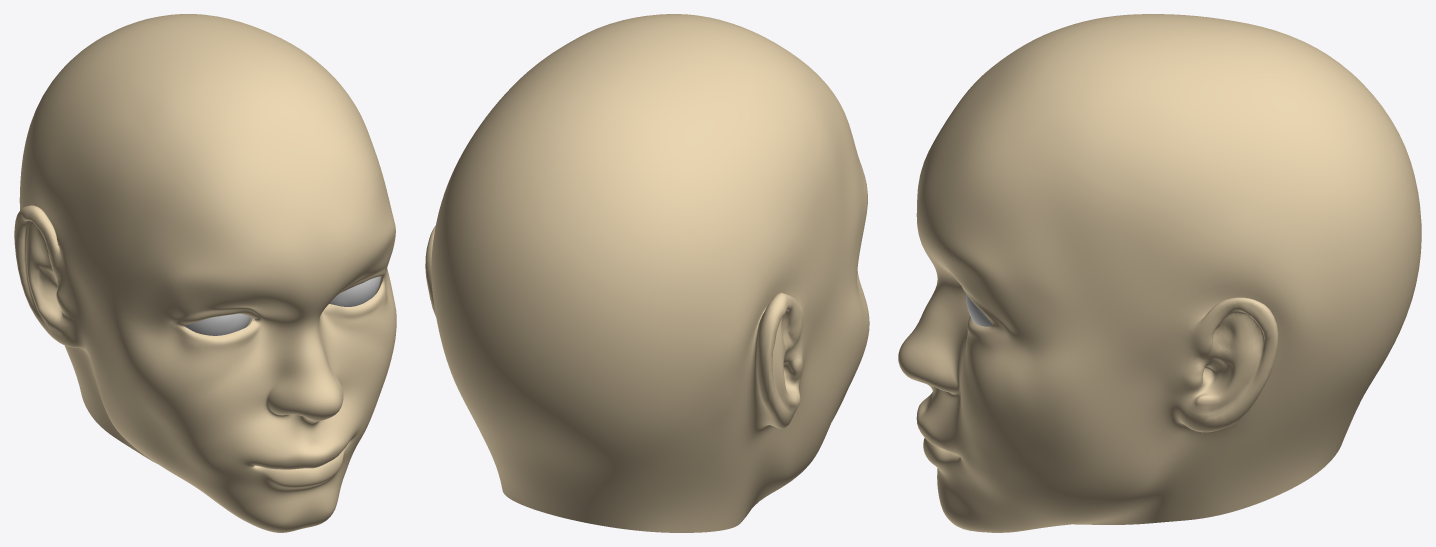
Rendered from alenka.gltf.
3 renders of one model, left to right at view 1: azimuth 30°, elevation 25°; view 2: azimuth 150°, elevation 25°; view 3: azimuth 270°, elevation 25°, orthographic. The views are drawn at different scales.
Parts seen in each view (by area): view 1: Win Alenka.004; view 2: Win Alenka.004; view 3: Win Alenka.004.
Part boxes in pixels (x1=…): Win Alenka.004: x1=14, y1=14, x2=396, y2=532; Win Alenka.004: x1=425, y1=14, x2=869, y2=532; Win Alenka.004: x1=898, y1=14, x2=1421, y2=532.
Bounding box in the file's own units: 15.53 × 20.96 × 20.44.
